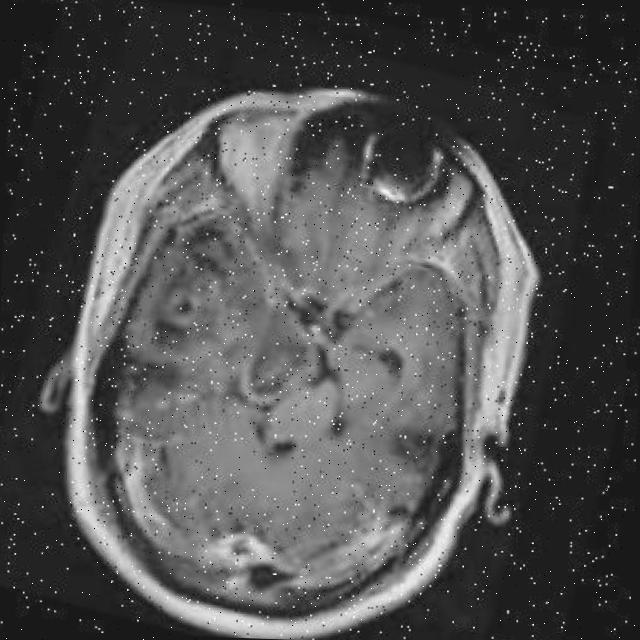EMCI: (100, 206, 287, 439)
